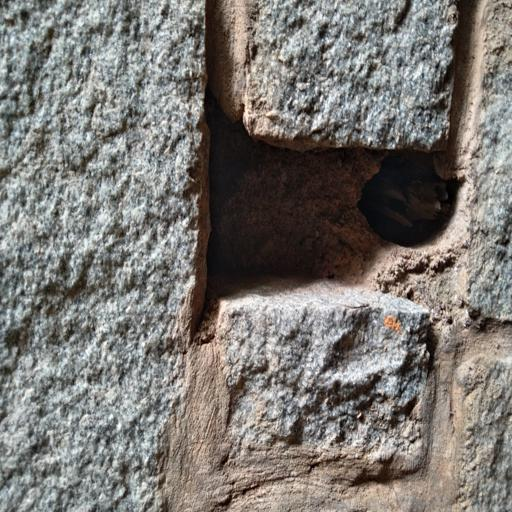spalling: (182, 45, 512, 336)
